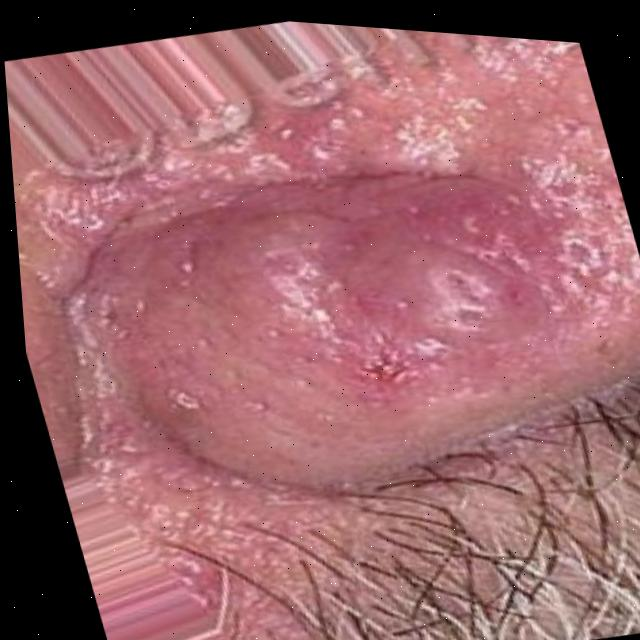Rosacea: (138, 95, 640, 455)
